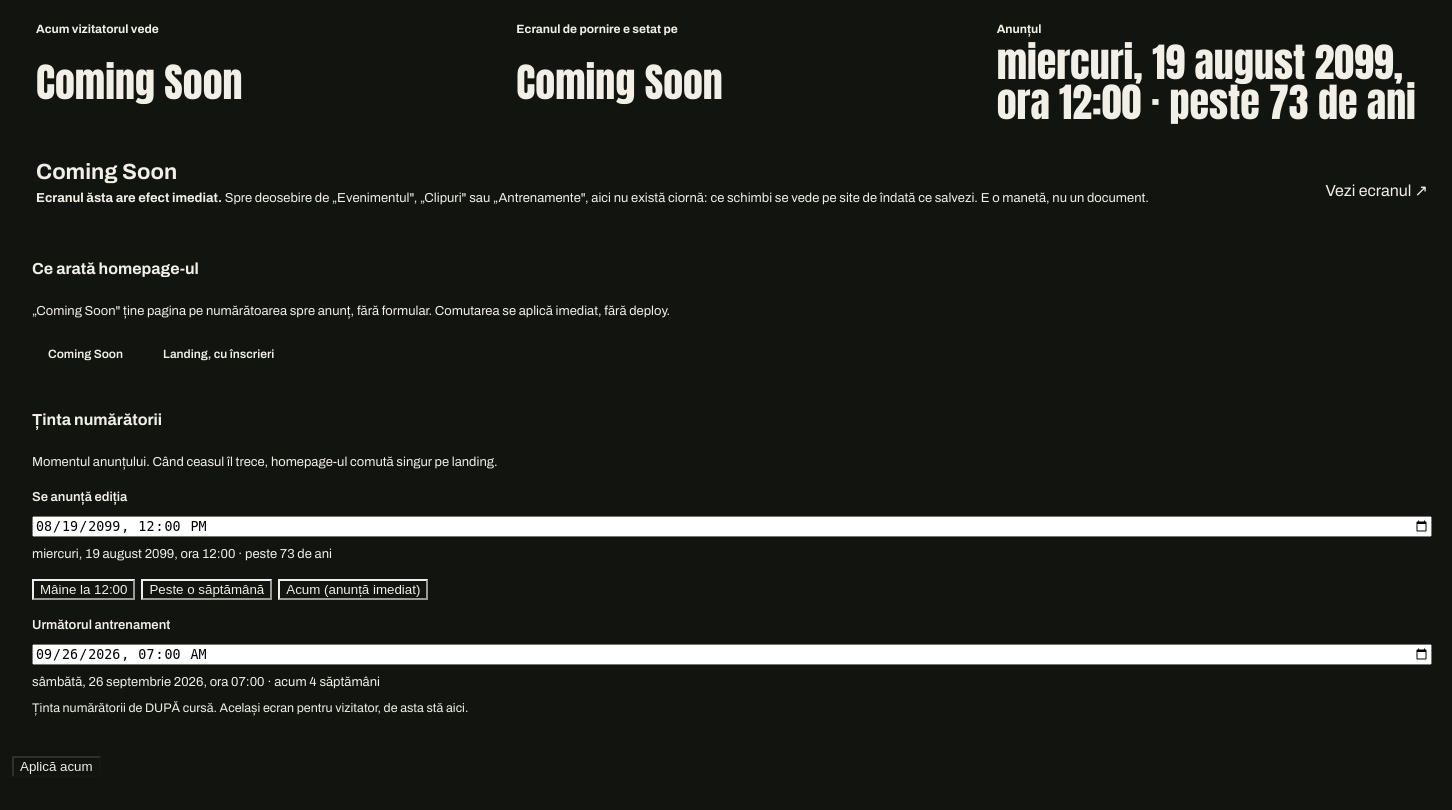
Test: nimic nu pleacă fără confirmare › „Anulează modificările" readuce valorile publicate
The image size is (1452, 810).
What coordinates should you click on to do the following:
click the button "Landing, cu înscrieri"
I would click on:
 (219, 354)
Its box is [147,338,290,370].
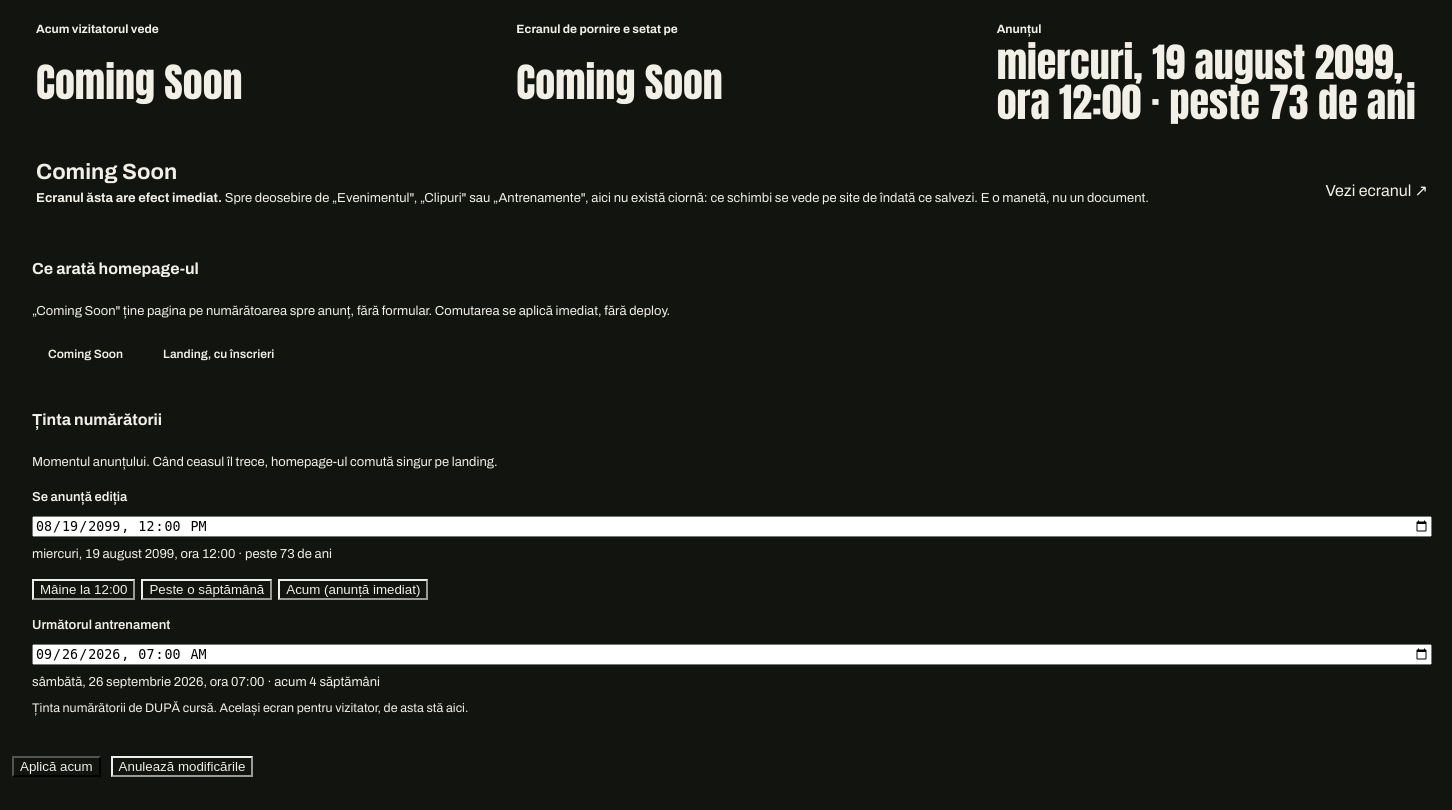
What coordinates should you click on to do the following:
click the button "Anulează modificările"
I would click on:
 (182, 766)
Its box is [111,756,253,776].
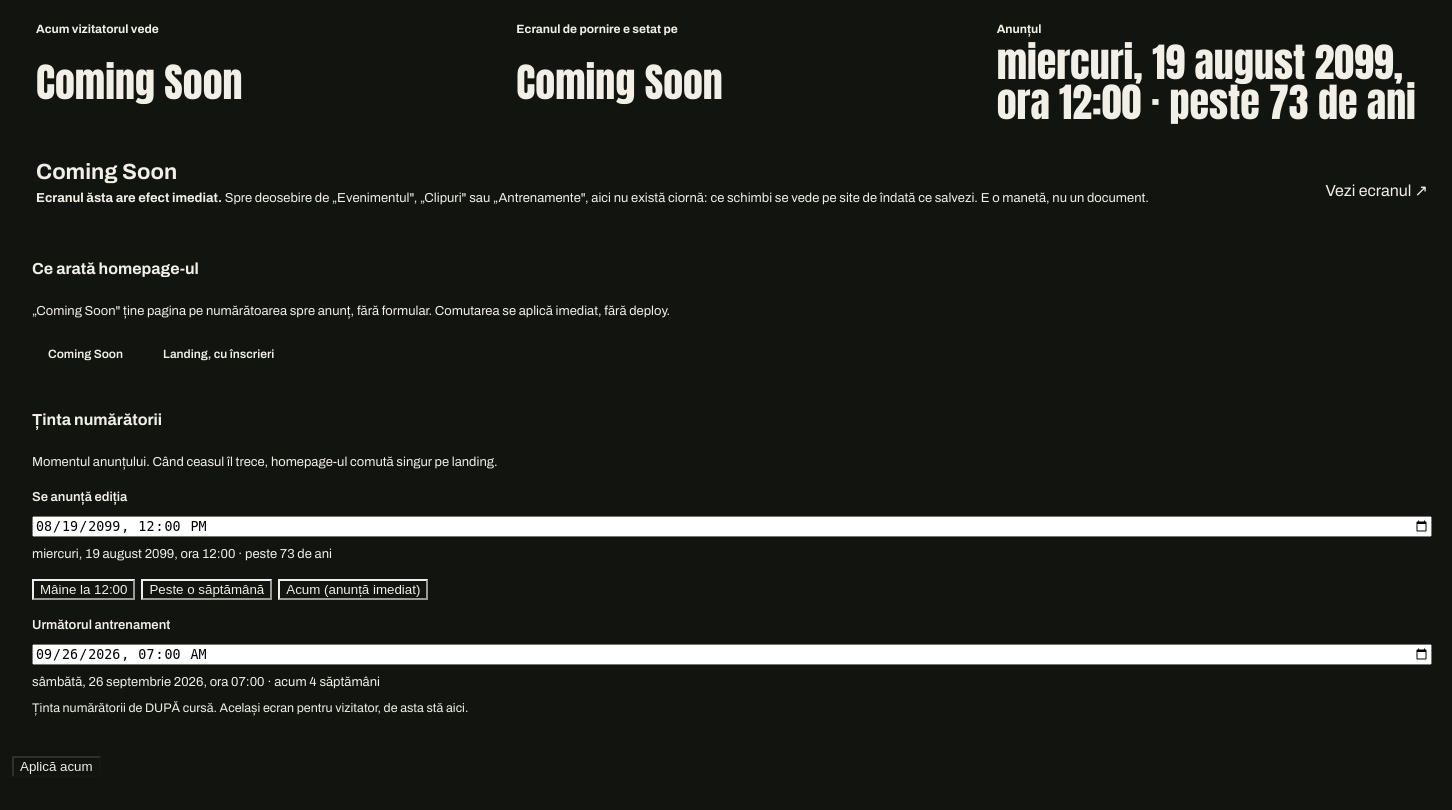
Check: the button "Aplică acum" is disabled, box [12,756,101,776]
